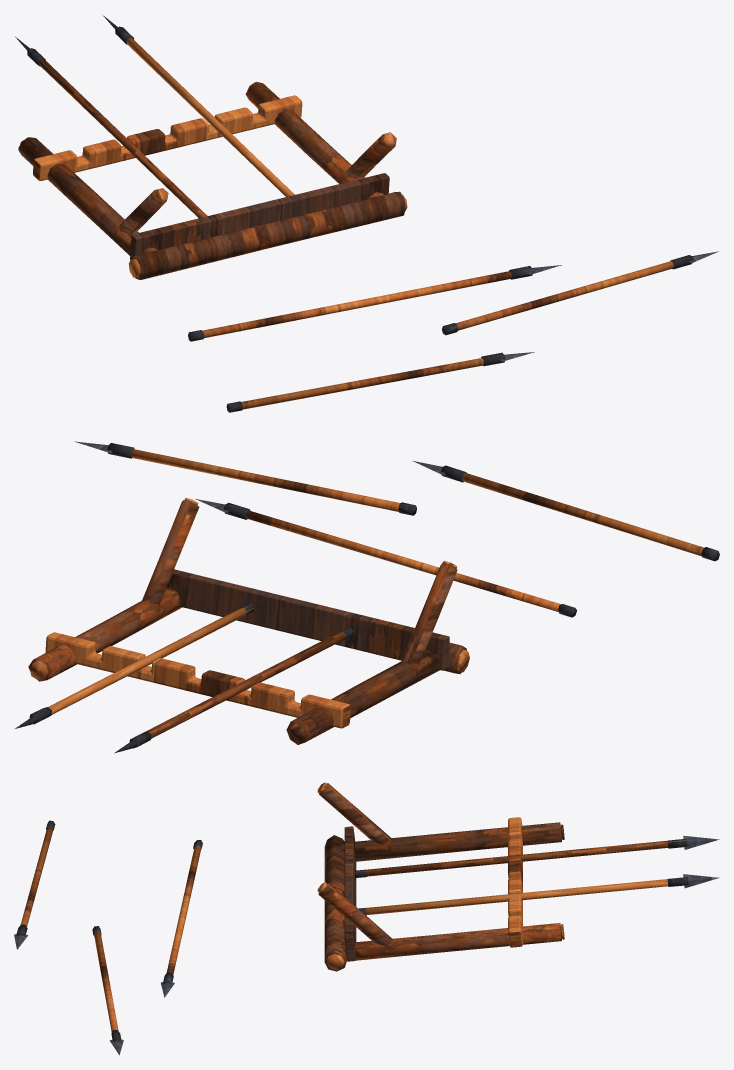
The model's file is mg_spear_rack_fallen.glb.
3 renders of one model, top to bottom at view 1: azimuth 30°, elevation 25°; view 2: azimuth 150°, elevation 25°; view 3: azimuth 270°, elevation 25°, orthographic. The views are drawn at different scales.
Visible parts, largest first — view 1: model; view 2: model; view 3: model.
Boxes of the visible parts, left/top/right/bottom form: model: left=15, top=15, right=718, bottom=412; model: left=15, top=441, right=719, bottom=753; model: left=14, top=782, right=719, bottom=1055.
Bounding box in the file's own units: 2.42 × 0.394 × 3.11.
Materials: 11 (11 with a texture image).
